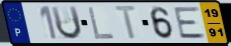1: (37, 5, 58, 42)
6: (148, 6, 175, 41)
E: (173, 6, 208, 40)
L: (87, 6, 117, 41)
T: (113, 5, 140, 42)
U: (50, 5, 84, 42)
